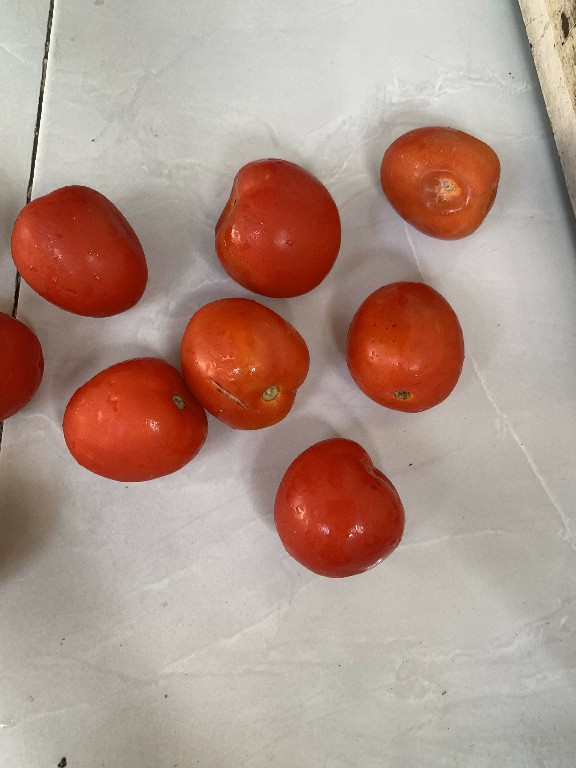NG: (175, 297, 312, 430), (368, 119, 500, 244)
OK: (270, 433, 410, 591), (4, 184, 154, 325), (207, 149, 346, 299), (51, 349, 205, 476), (342, 276, 472, 420)
